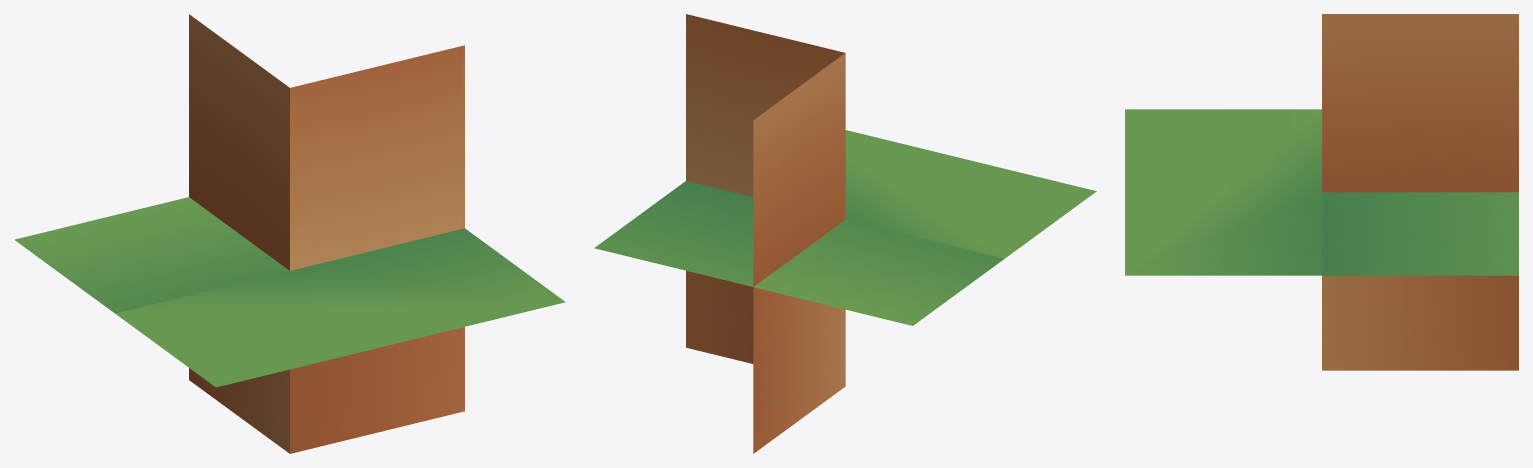
The picture shows the model from 3 angles, left to right: view 1: azimuth 30°, elevation 25°; view 2: azimuth 150°, elevation 25°; view 3: azimuth 270°, elevation 25°; orthographic projection. The views are drawn at different scales.
Visible parts, largest first — view 1: 00011110; view 2: 00011110; view 3: 00011110.
Part boxes in pixels (box(x1,y1,x2,y2)): 00011110: box(14, 14, 565, 453); 00011110: box(594, 14, 1096, 453); 00011110: box(1125, 14, 1518, 370).
Size of the model in its own units: 1 by 1 by 1.
1 material, 1 textured.
